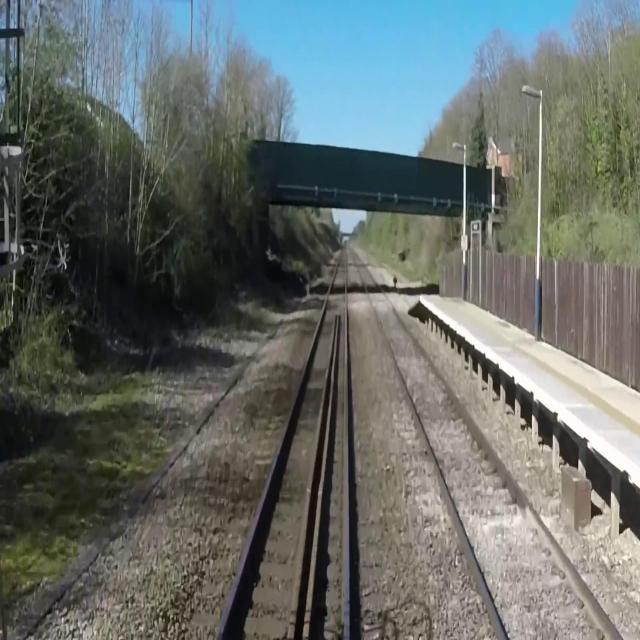rail-track: (351, 248, 612, 639), (221, 245, 345, 639)
